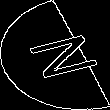N_E: (11, 27, 99, 83)
